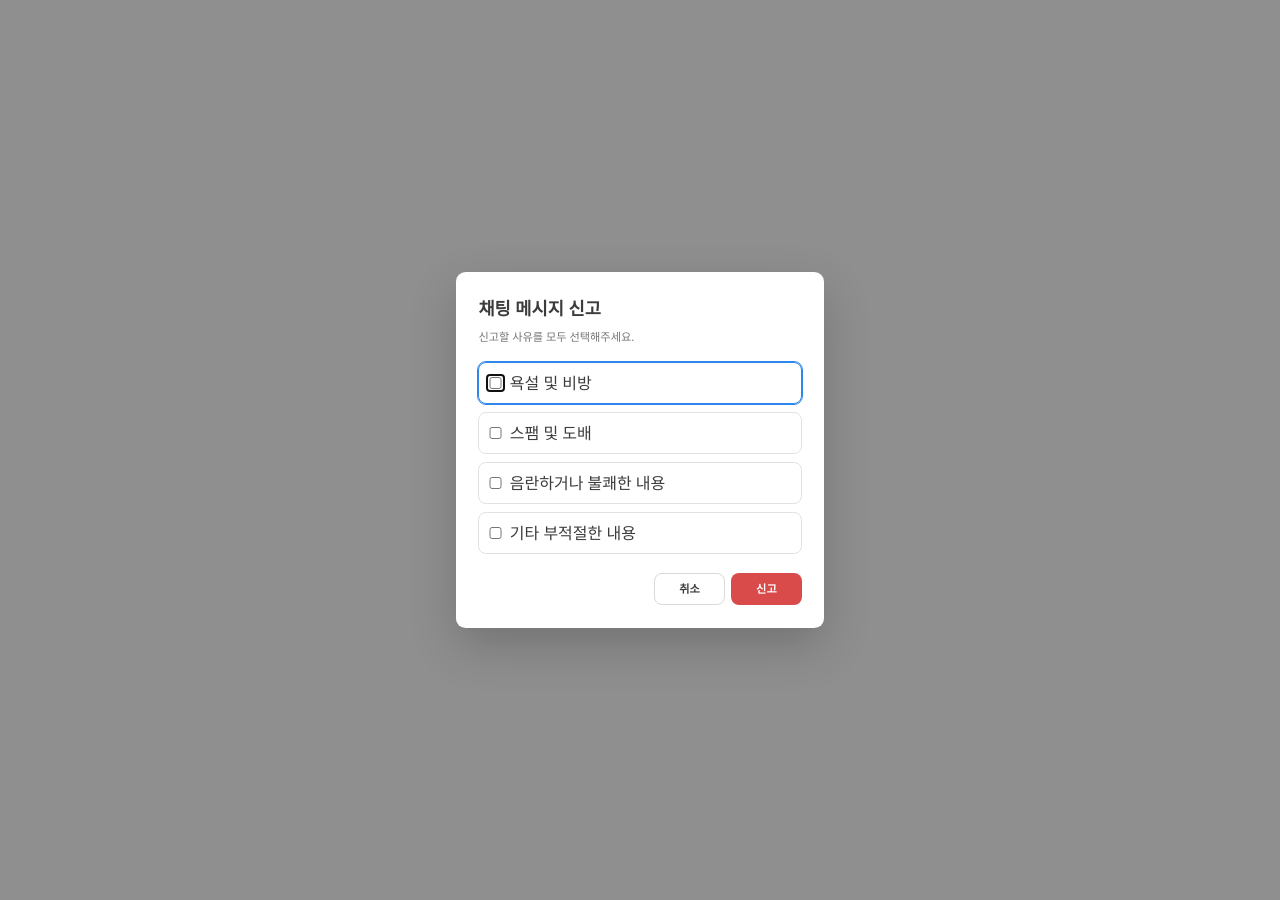
Test case: ReportChatMessageModal › 사유 미선택 제출은 선택 그룹과 공통 알림을 오류로 표시한다
The image size is (1280, 900).
Click the button "신고" at (766, 589), box [731,573,802,605]
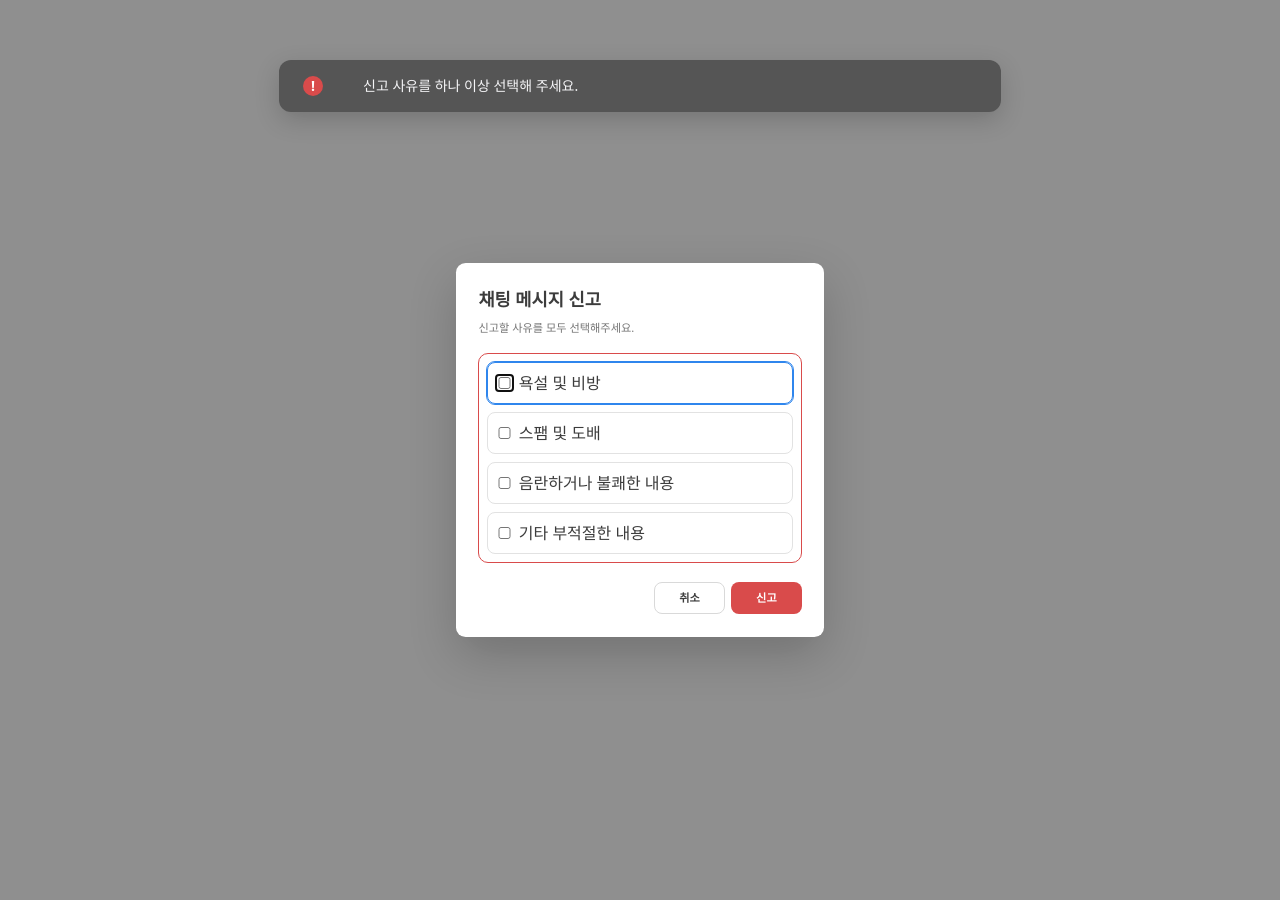
Result: the message shows "신고 사유를 하나 이상 선택해 주세요." at [363,76,578,95]
